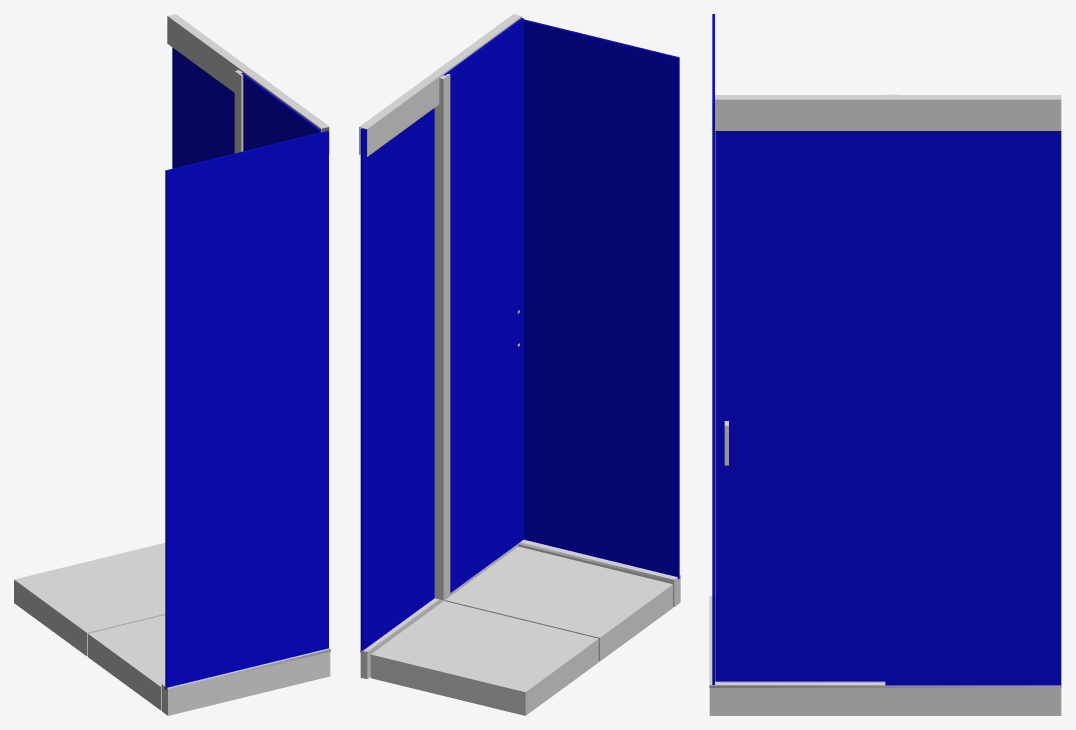
Rendered from ShowerCabinBath03.fbx.
3 renders of one model, left to right at view 1: azimuth 30°, elevation 25°; view 2: azimuth 150°, elevation 25°; view 3: azimuth 270°, elevation 25°, orthographic. The views are drawn at different scales.
Visible parts, largest first — view 1: Window2Bath03_high, ShowerCabinetFloor1Bath03_high, Window3Bath03_high, ShowerCabinetFloor2Bath03_high, LowerFrameBath03_high, UpperFrameBath03_high, Window1Bath03_high, ShowerSliderBath03_high, OuterBentShowerRailBath03_high; view 2: Window2Bath03_high, Window1Bath03_high, Window3Bath03_high, ShowerCabinetFloor1Bath03_high, ShowerCabinetFloor2Bath03_high, ShowerSliderBath03_high, UpperFrameBath03_high, LowerFrameBath03_high, InnerBentShowerRailBath03_high; view 3: Window3Bath03_high, Window1Bath03_high, UpperFrameBath03_high, LowerFrameBath03_high, Window2Bath03_high, OuterBentShowerRailBath03_high.
Boxes of the visible parts, x1,y1,x2,y2 form: Window2Bath03_high: (165, 131, 328, 689); ShowerCabinetFloor1Bath03_high: (14, 543, 165, 656); Window3Bath03_high: (172, 47, 234, 168); ShowerCabinetFloor2Bath03_high: (88, 615, 165, 710); LowerFrameBath03_high: (162, 651, 330, 715); UpperFrameBath03_high: (167, 14, 329, 154); Window1Bath03_high: (241, 73, 320, 151); ShowerSliderBath03_high: (234, 70, 243, 153); OuterBentShowerRailBath03_high: (166, 648, 330, 690); Window2Bath03_high: (523, 19, 679, 579); Window1Bath03_high: (443, 18, 523, 592); Window3Bath03_high: (360, 108, 434, 650); ShowerCabinetFloor1Bath03_high: (370, 601, 598, 715); ShowerCabinetFloor2Bath03_high: (445, 546, 672, 661); ShowerSliderBath03_high: (434, 74, 450, 600); UpperFrameBath03_high: (359, 14, 521, 156); LowerFrameBath03_high: (360, 539, 680, 678); InnerBentShowerRailBath03_high: (366, 541, 675, 653); Window3Bath03_high: (885, 131, 1061, 685); Window1Bath03_high: (715, 131, 885, 681); UpperFrameBath03_high: (715, 95, 1061, 130); LowerFrameBath03_high: (709, 596, 1061, 715); Window2Bath03_high: (712, 14, 714, 684); OuterBentShowerRailBath03_high: (709, 596, 1061, 687).
Bounding box in the file's own units: 73.05 × 232 × 120.
